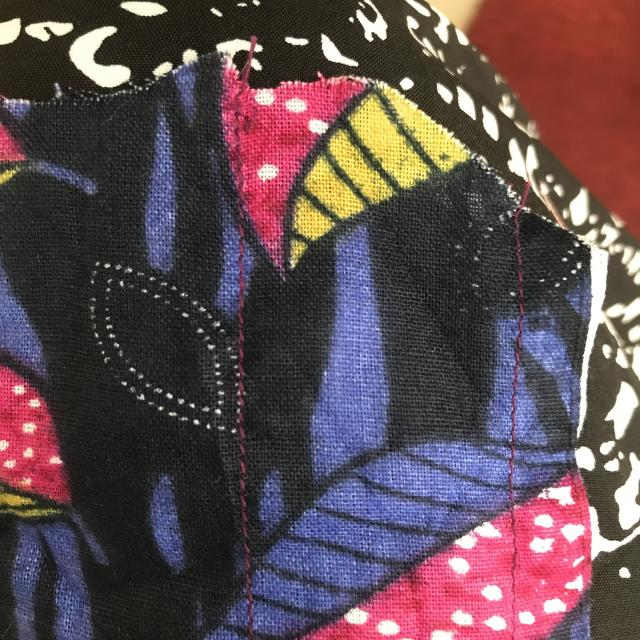good: (226, 432, 263, 613), (508, 236, 536, 475), (228, 236, 260, 358)
